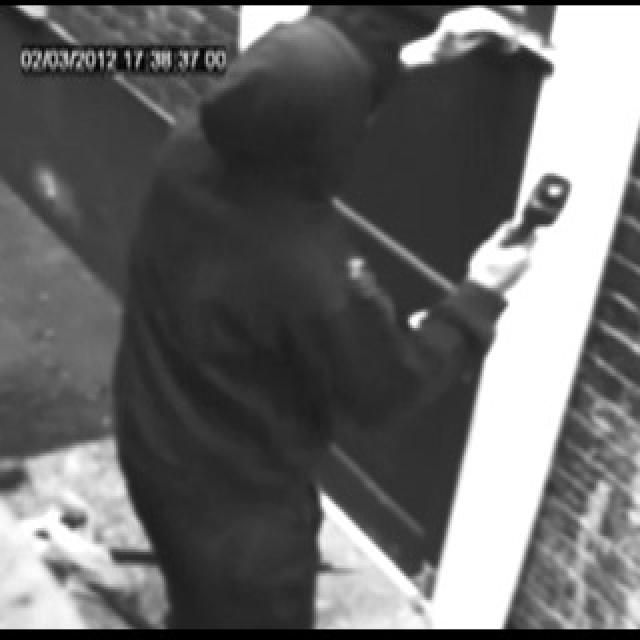thief: (184, 0, 382, 221)
